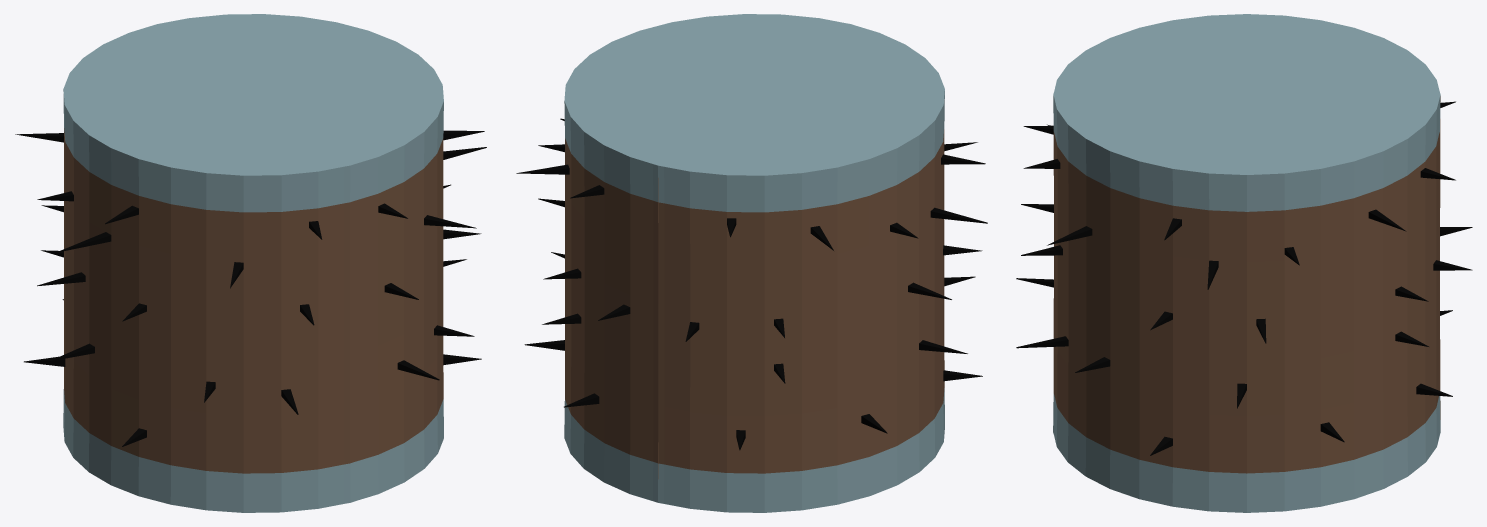
The model's file is Torre de espinhos com cor.fbx.
3 views of the same model, side by side, from view 1: azimuth 30°, elevation 25°; view 2: azimuth 150°, elevation 25°; view 3: azimuth 270°, elevation 25° (orthographic).
Visible parts, largest first — view 1: Cylinder, borda, espinhos; view 2: Cylinder, borda, espinhos; view 3: Cylinder, borda, espinhos.
Boxes of the visible parts, x1,y1,x2,y2 form: Cylinder: [64, 128, 443, 473]; borda: [63, 14, 443, 512]; espinhos: [15, 130, 486, 446]; Cylinder: [565, 129, 944, 478]; borda: [564, 14, 944, 512]; espinhos: [516, 118, 987, 450]; Cylinder: [1053, 96, 1440, 473]; borda: [1053, 14, 1440, 512]; espinhos: [1016, 101, 1472, 455].
Size of the model in its own units: 276 by 209 by 255.
2 materials, 2 textured.
